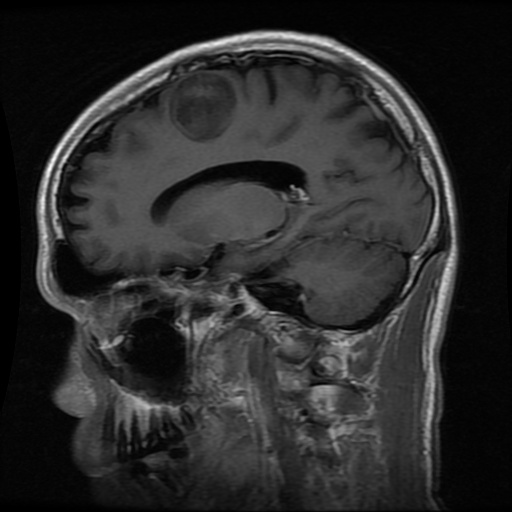glioma: (171, 71, 236, 141)
